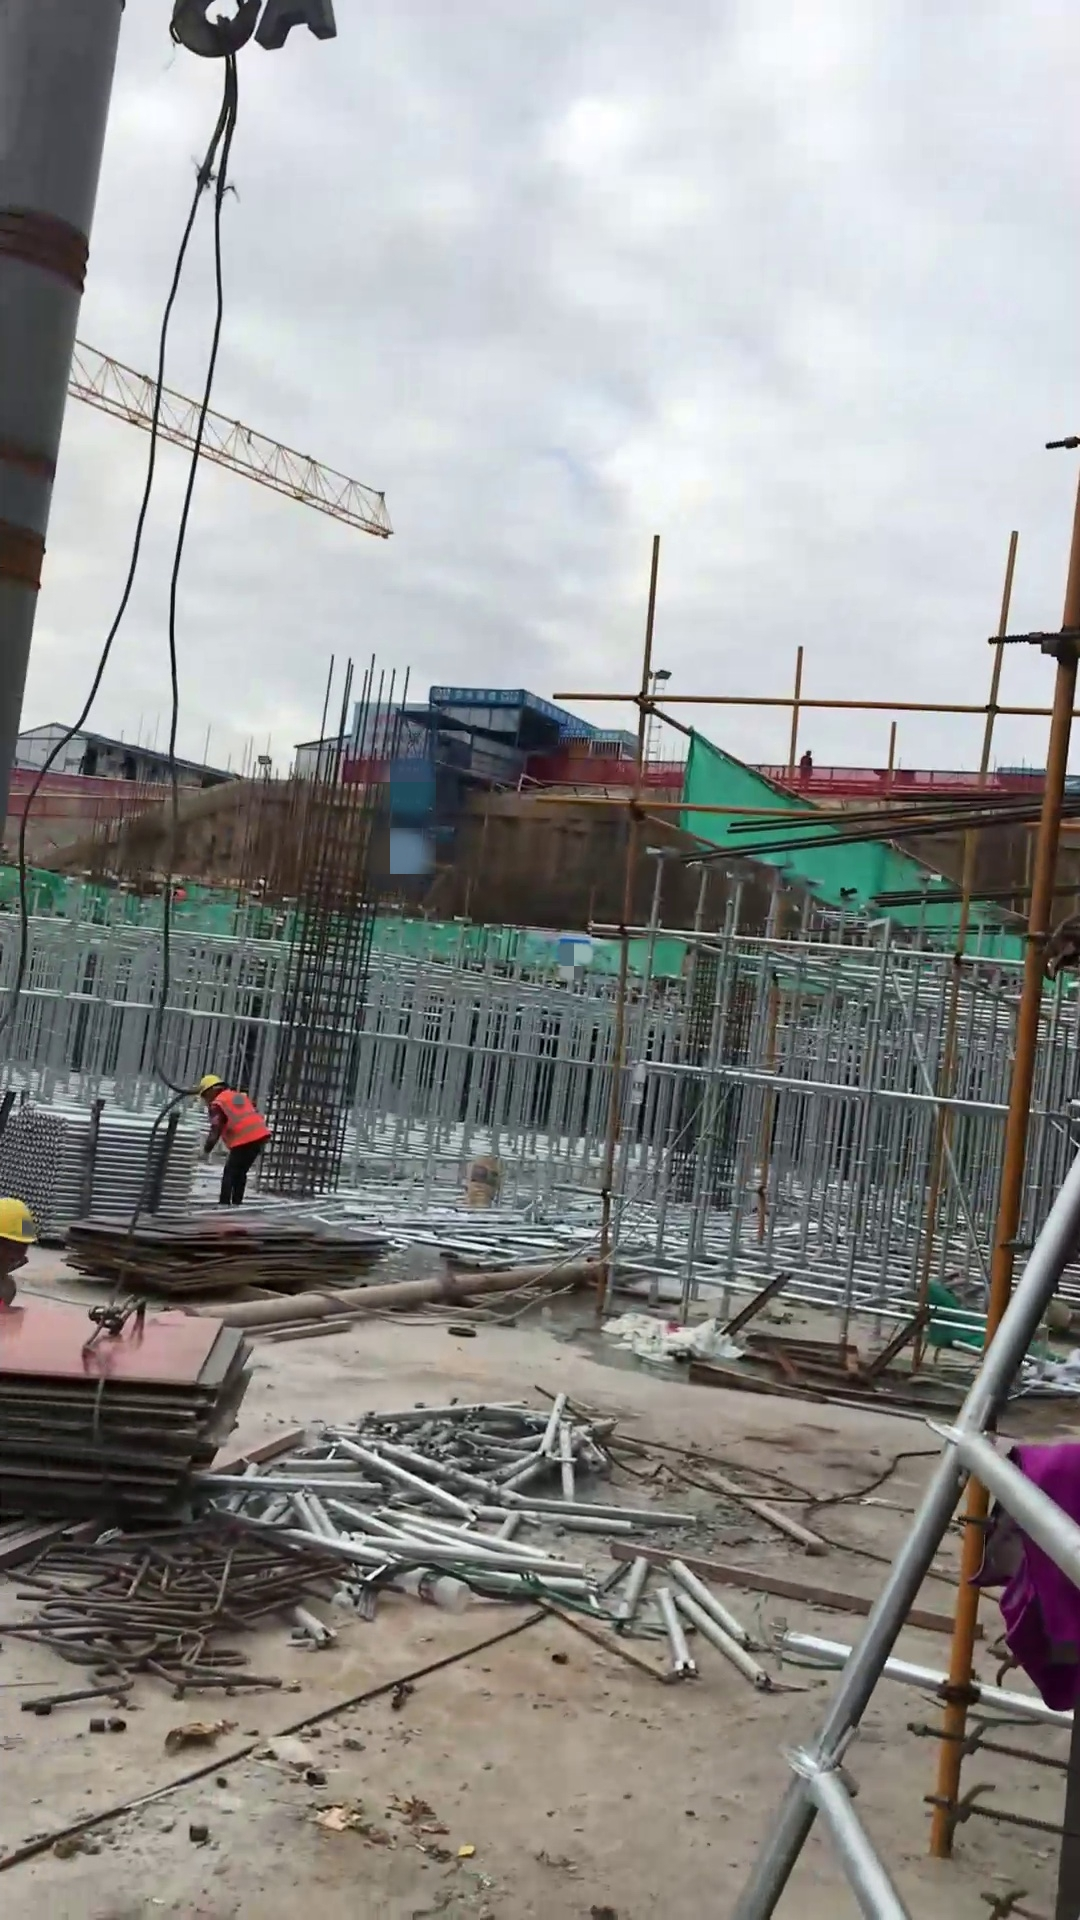board: (1, 1301, 254, 1524), (65, 1214, 394, 1292)
helmet: (1, 1196, 42, 1254), (194, 1072, 227, 1097)
person: (196, 1069, 274, 1209), (797, 748, 815, 793)
scaffold: (1, 1103, 202, 1238)
slogan: (429, 684, 633, 742)
vest: (209, 1087, 273, 1148)
